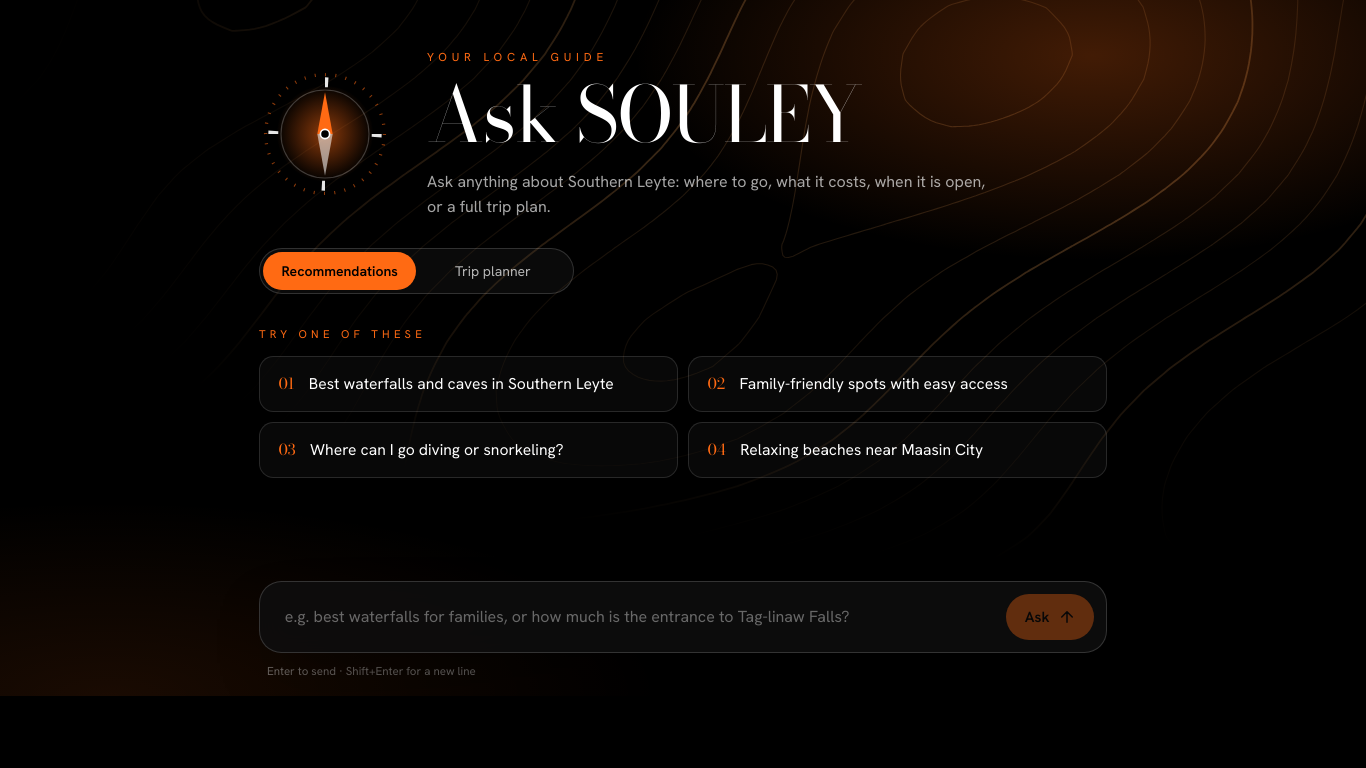
Test: Ask page › New chat clears the conversation and brings the ideas back
Type "waterfalls" into the text box named "your question". click: (633, 617)
box: [272,595,994,640]
Then press Enter
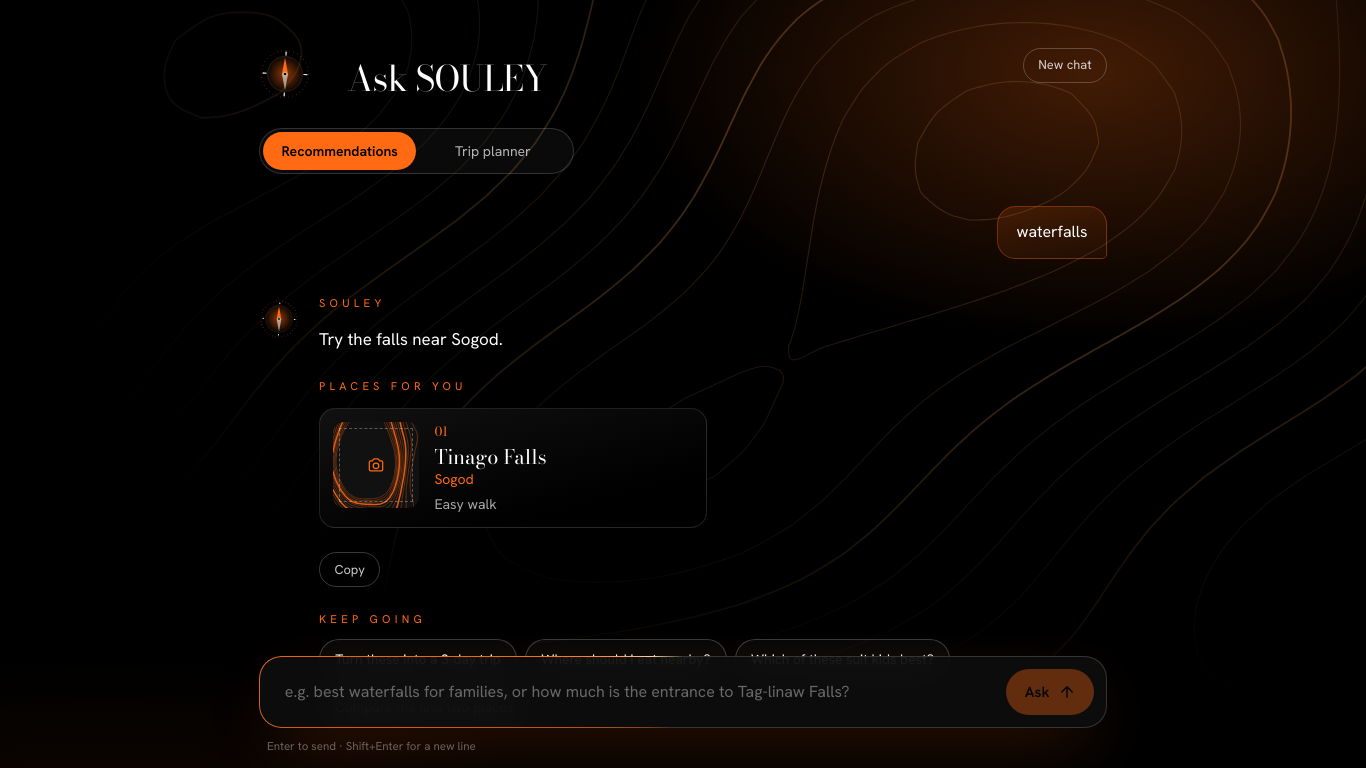
Expected: the text "Try the falls near Sogod." is shown, [319,328,503,350]
Click the button "New chat". click: (1065, 66)
box: [1023,48,1107,83]
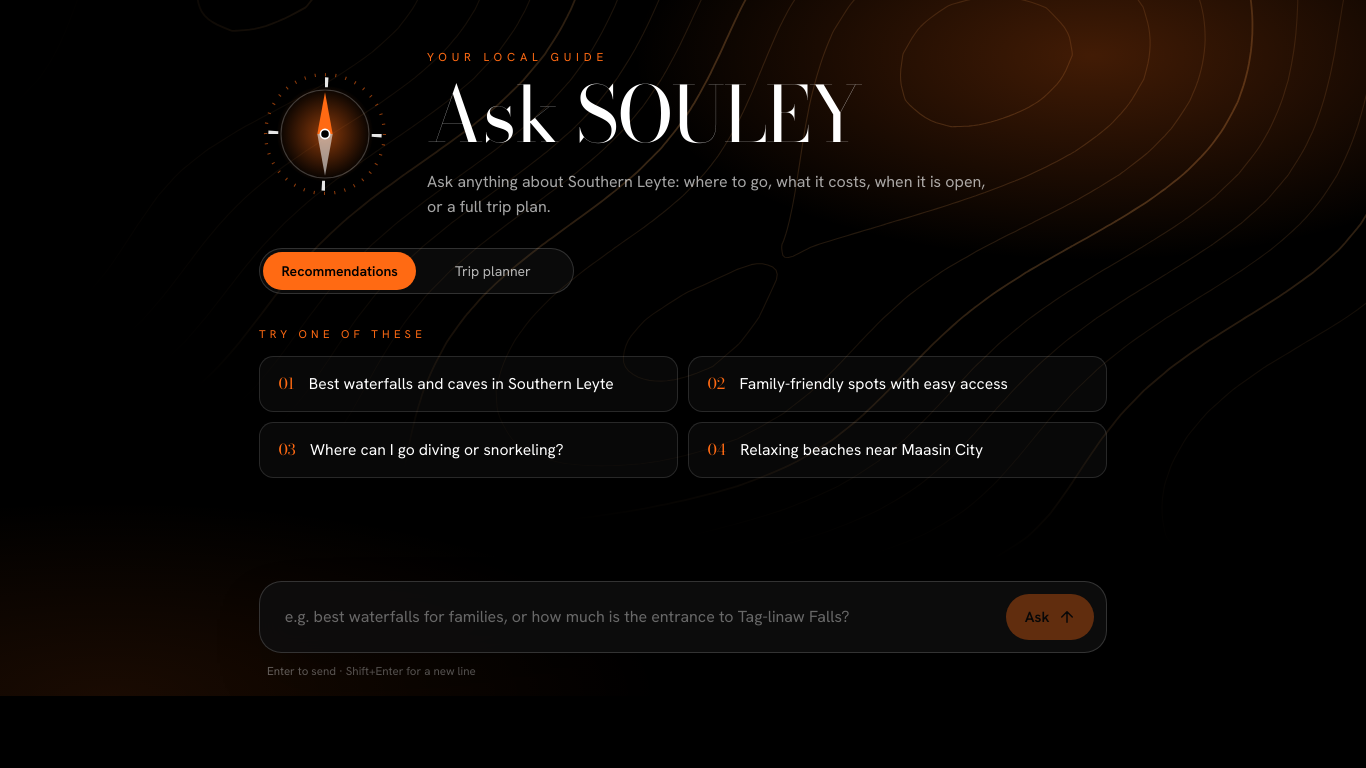
Expected: the text "Try the falls near Sogod." is gone
Expected: the text "Relaxing beaches near Maasin City" is shown, [740,439,983,461]
